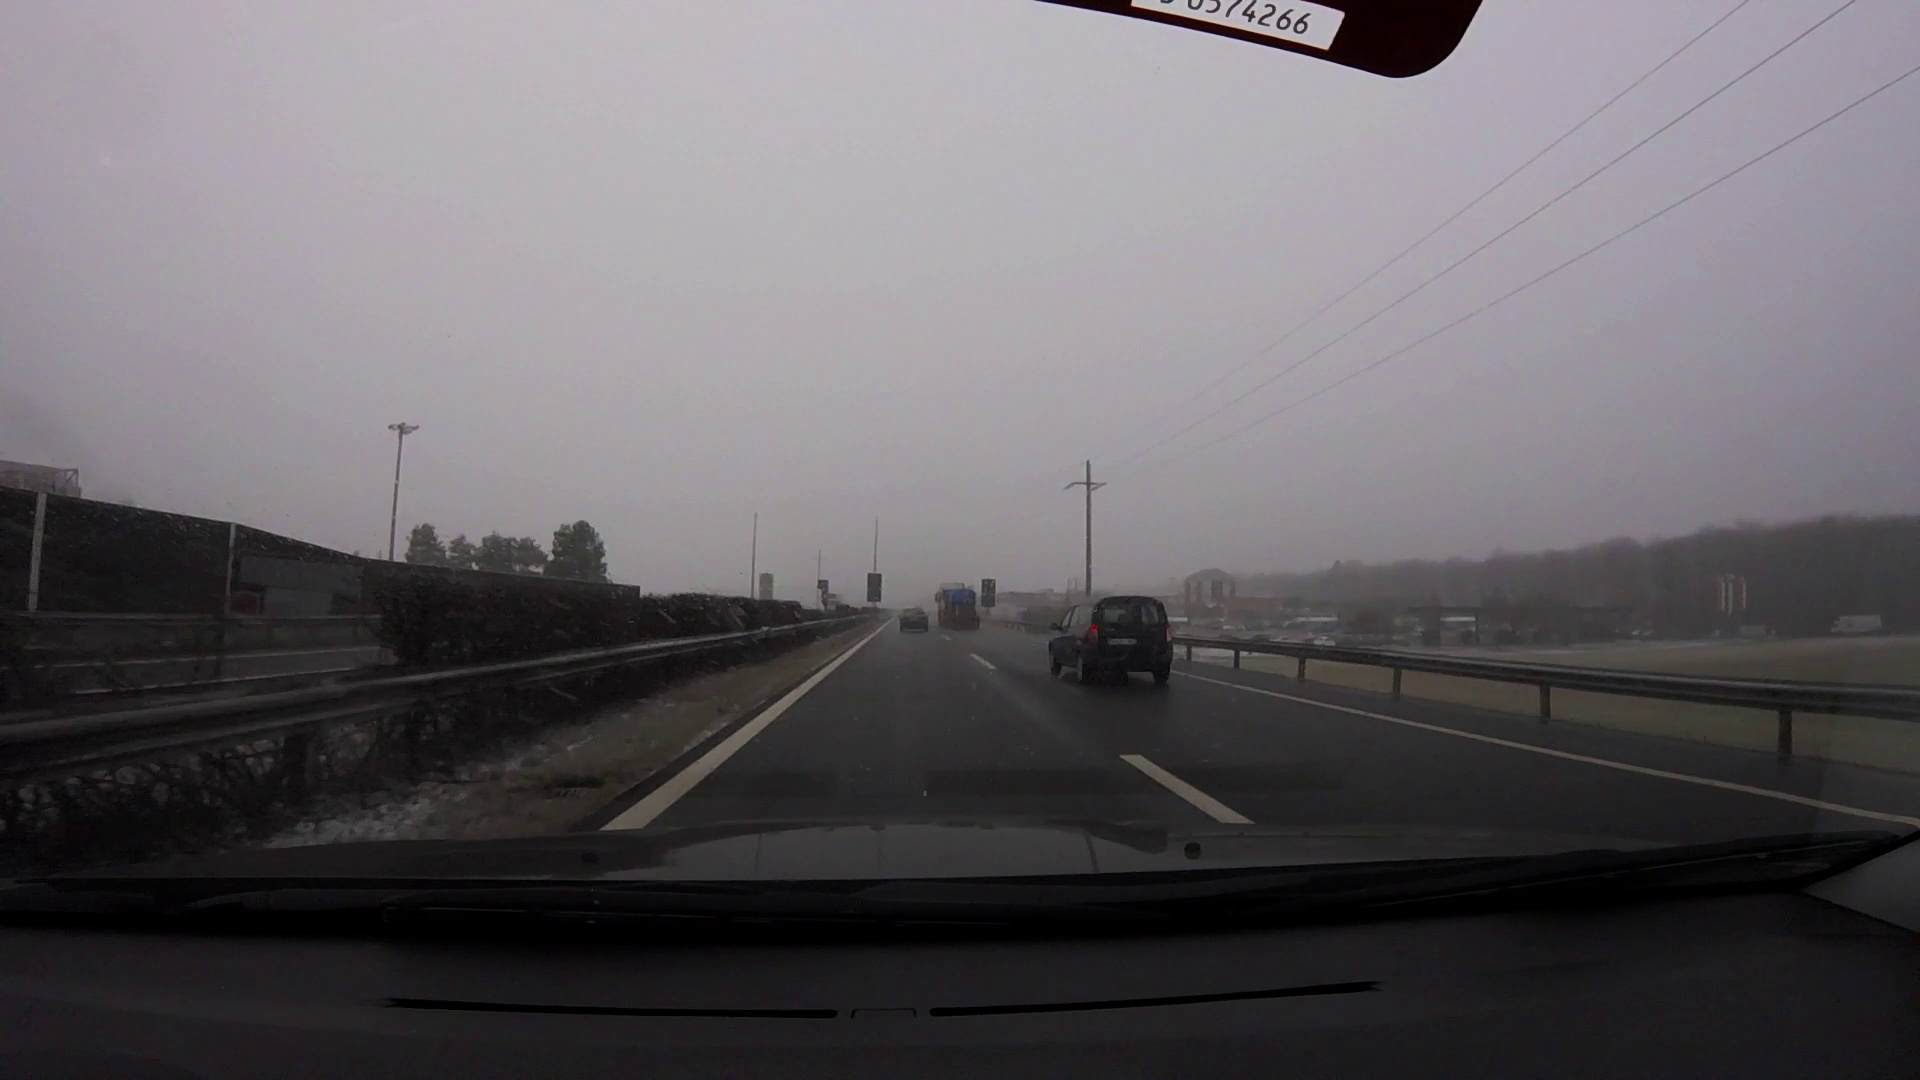radar: (818, 579, 829, 608)
